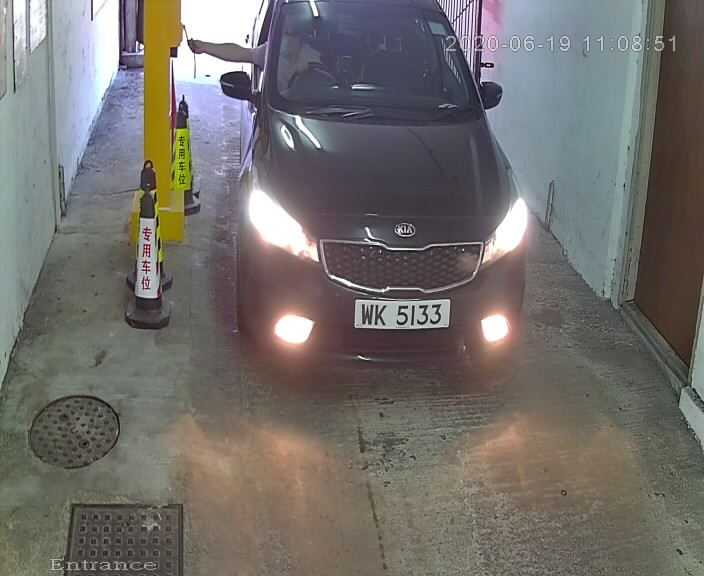privatecar: (207, 3, 530, 382)
